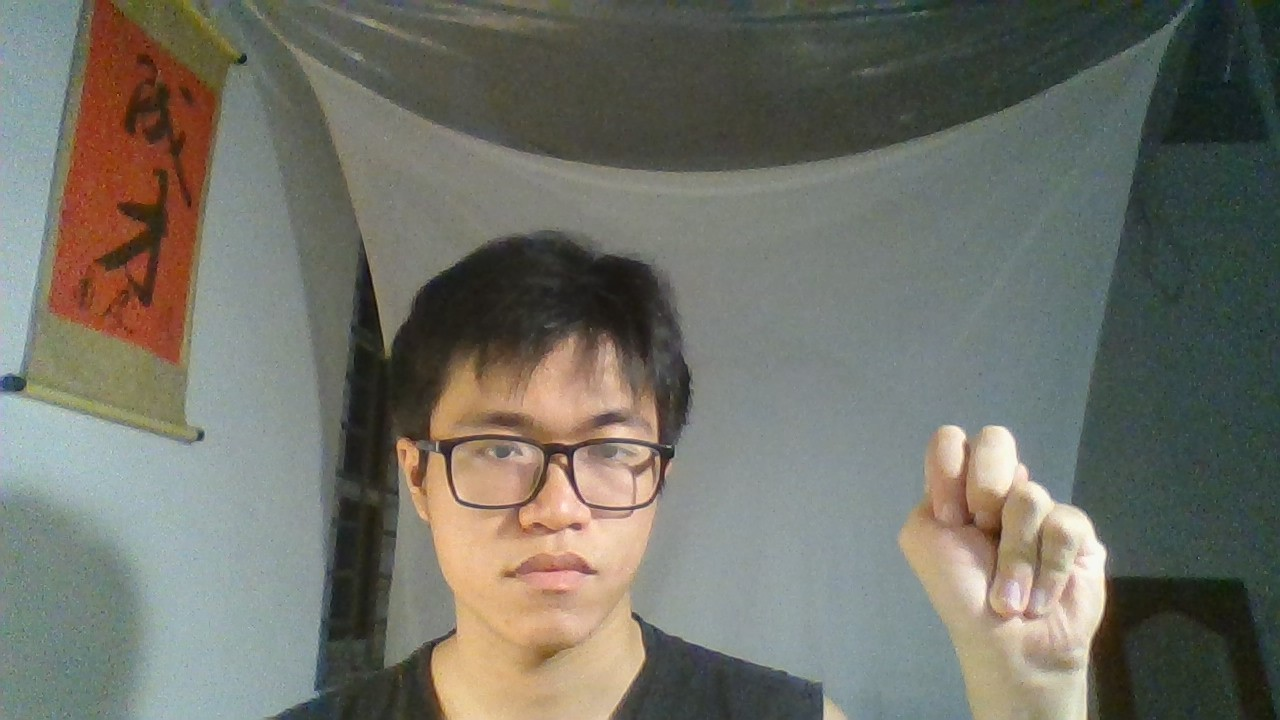n: (835, 362, 1159, 685)
